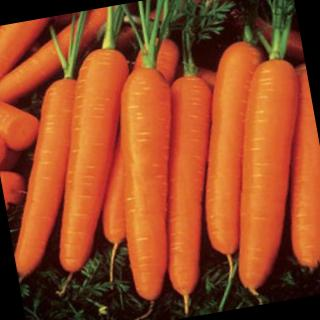Wortel: (24, 44, 163, 276), (200, 54, 320, 296), (94, 61, 207, 303)
